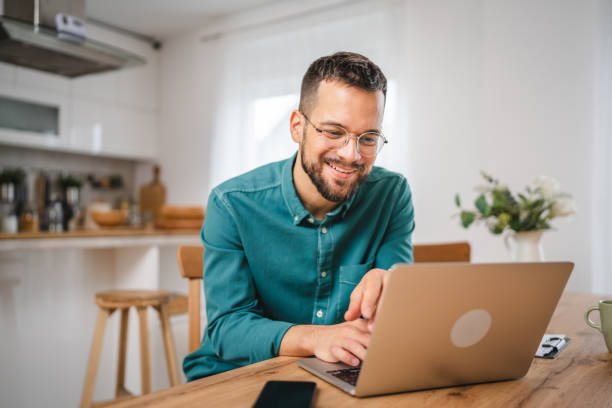Male: (187, 36, 421, 372)
